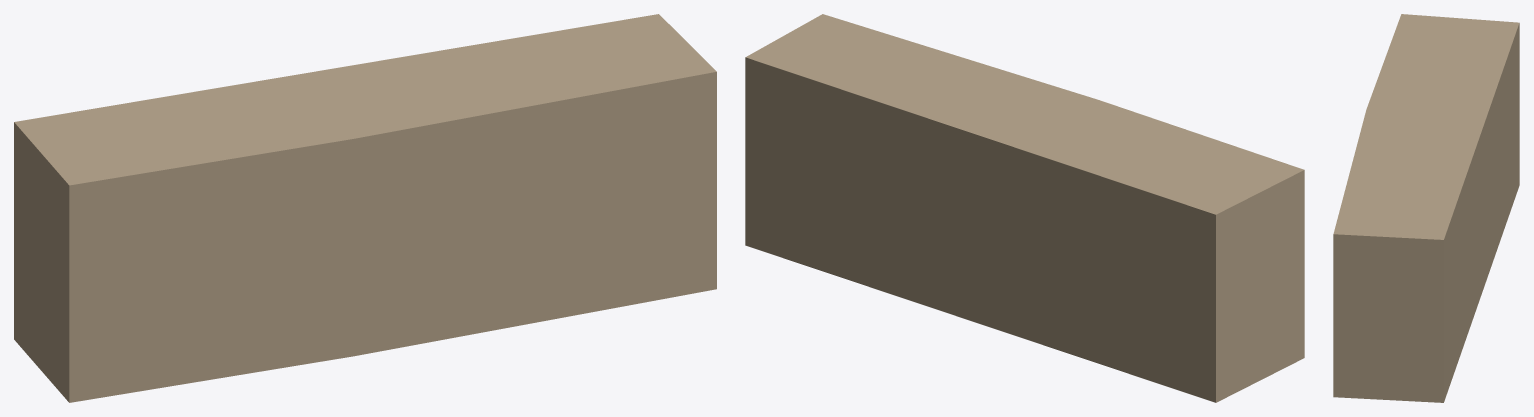
The model's file is bld_98640365.dae.
3 renders of one model, left to right at view 1: azimuth 30°, elevation 25°; view 2: azimuth 150°, elevation 25°; view 3: azimuth 270°, elevation 25°, orthographic. The views are drawn at different scales.
Visible parts, largest first — view 1: bld_98640365; view 2: bld_98640365; view 3: bld_98640365.
Boxes of the visible parts, bbox=[...] form: bld_98640365: bbox=[14, 14, 716, 402]; bld_98640365: bbox=[745, 14, 1304, 402]; bld_98640365: bbox=[1333, 14, 1519, 402].
Bounding box in the file's own units: 23.79 × 8.28 × 8.
